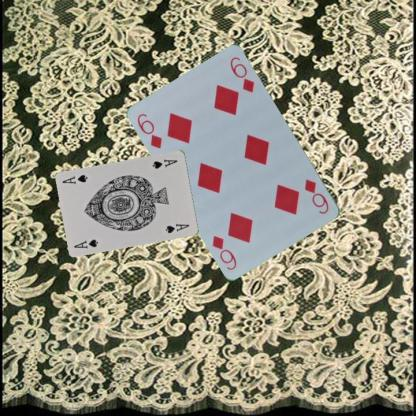6d: (302, 176, 331, 216), (135, 111, 164, 150)
As: (150, 156, 178, 170), (71, 236, 99, 250)
